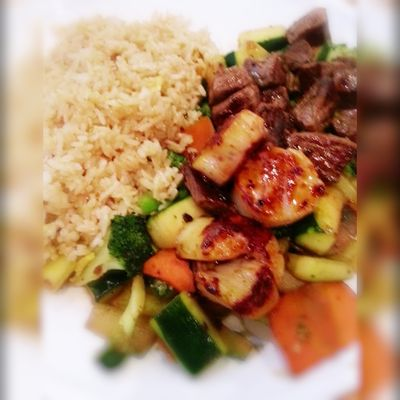pizza: (268, 282, 364, 376), (142, 248, 196, 294)
